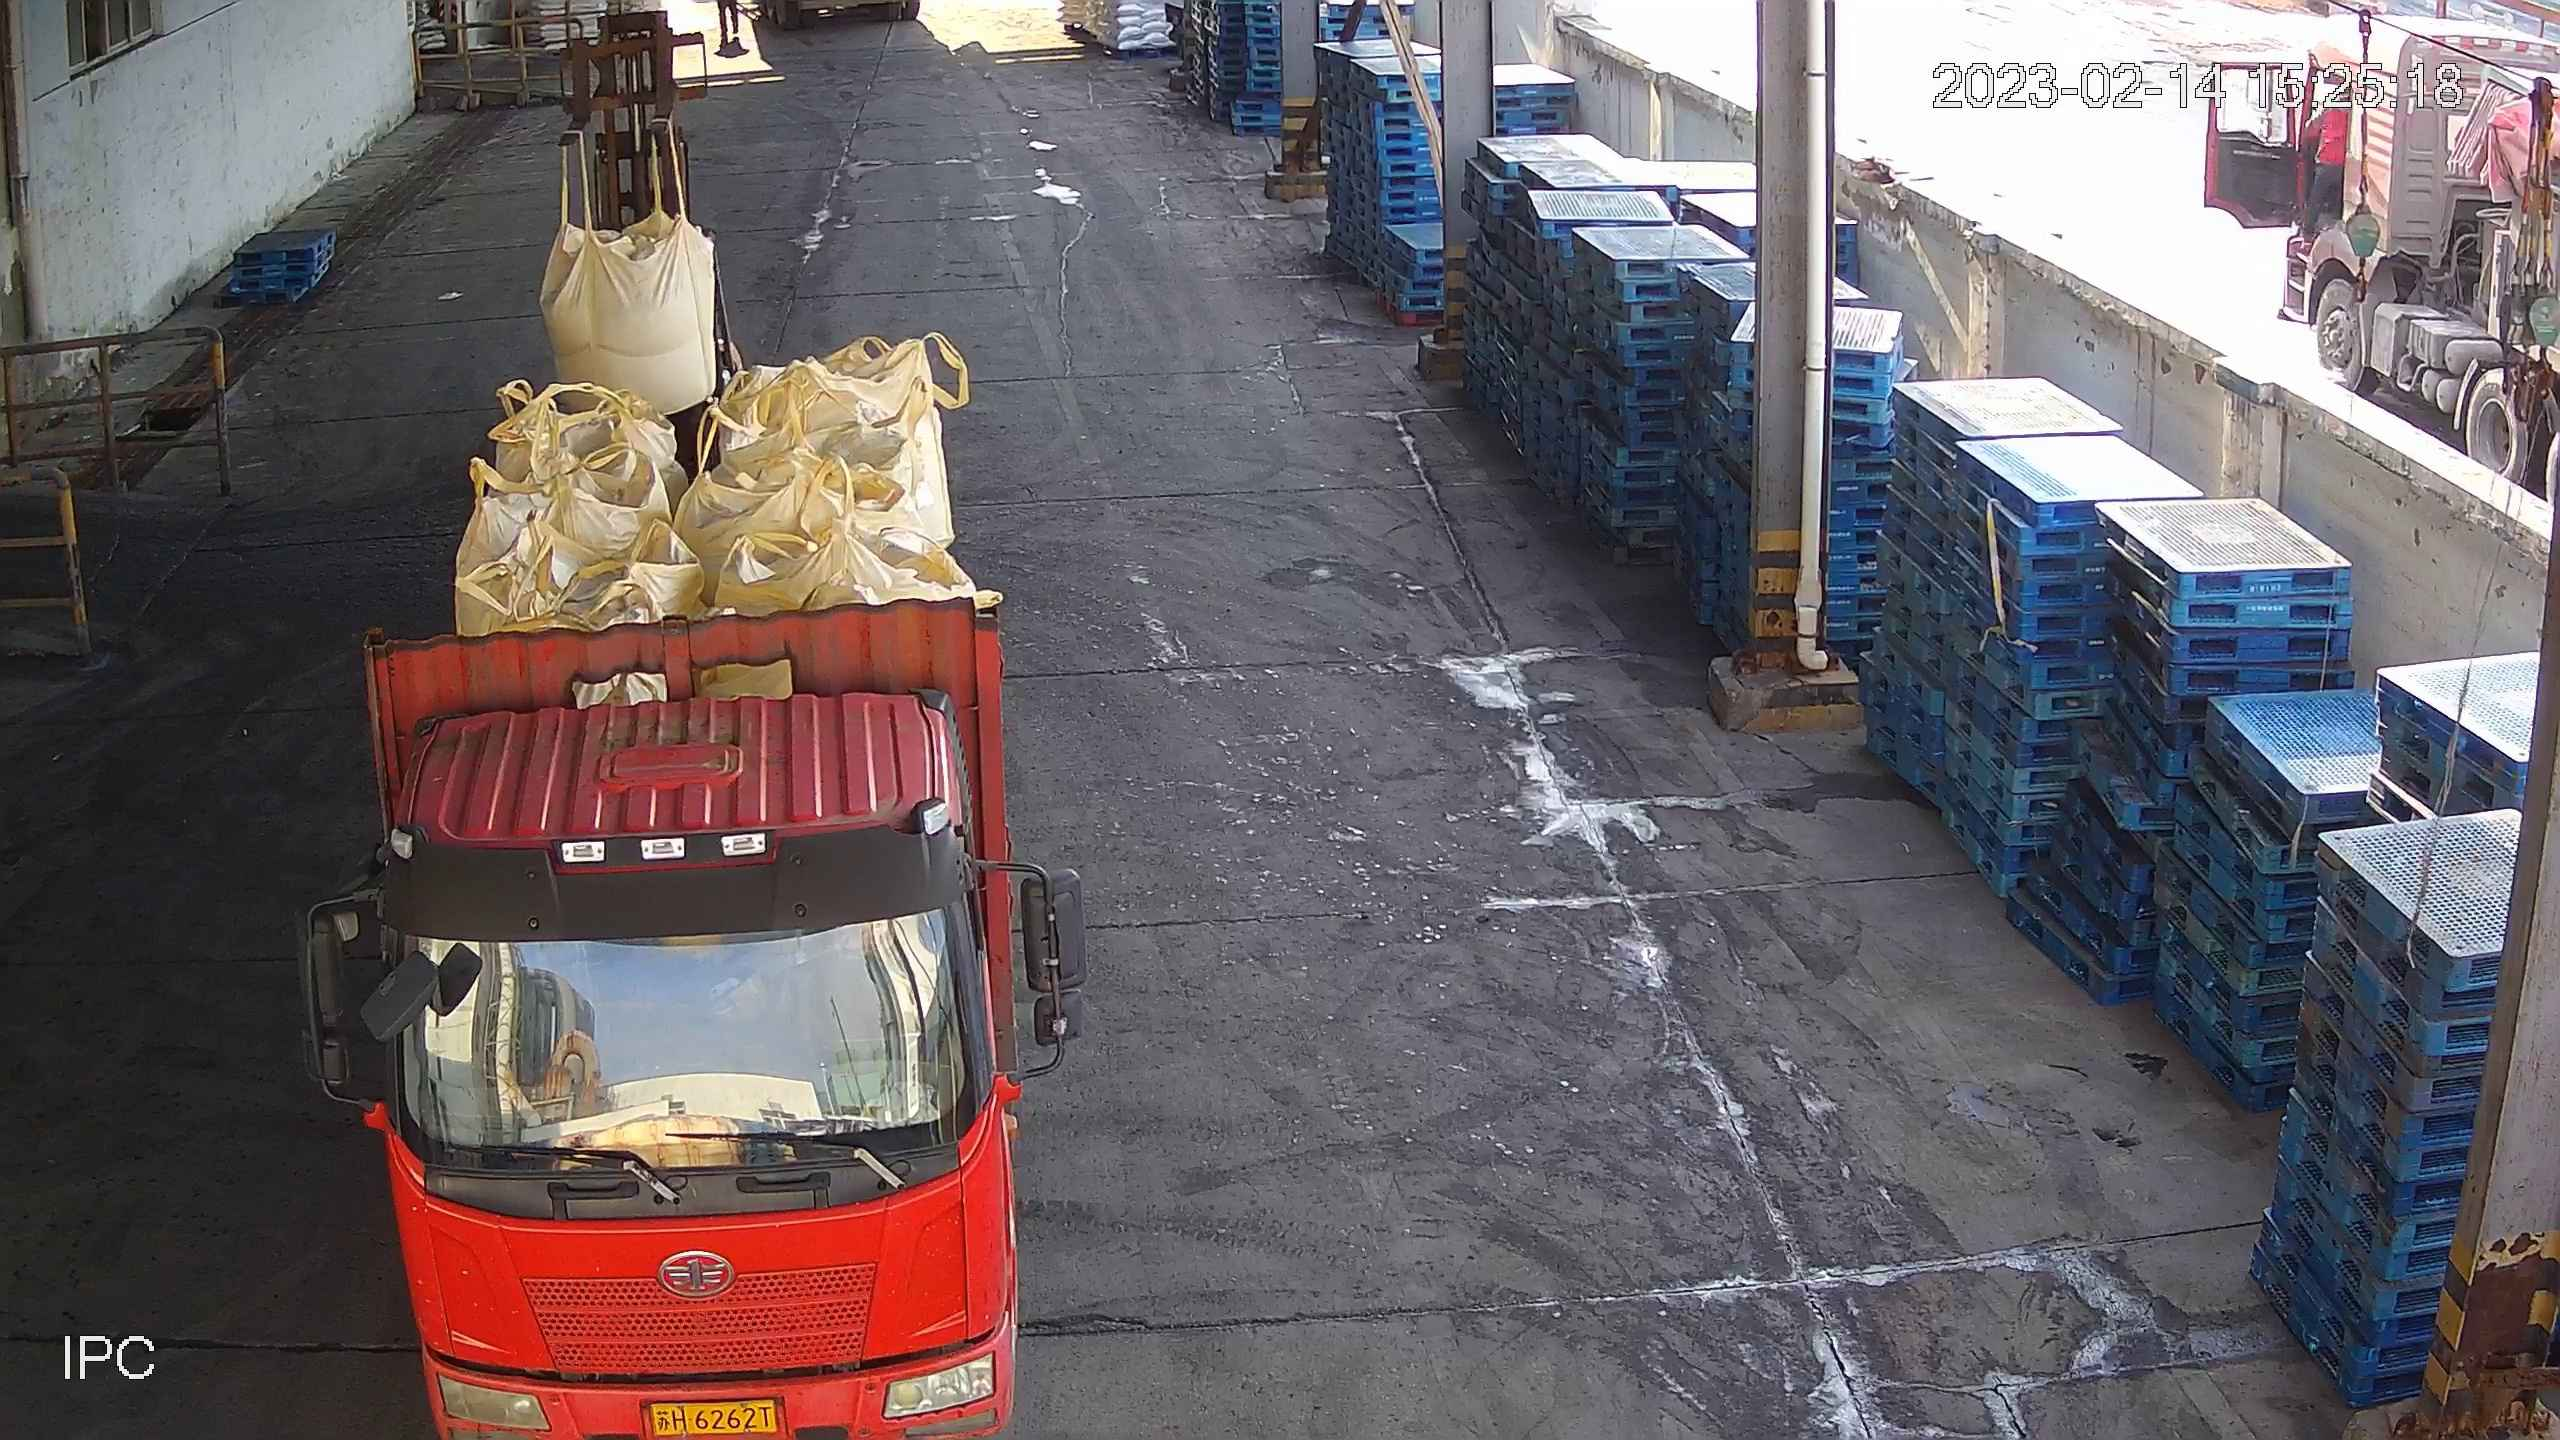truck: (304, 324, 1087, 1436)
